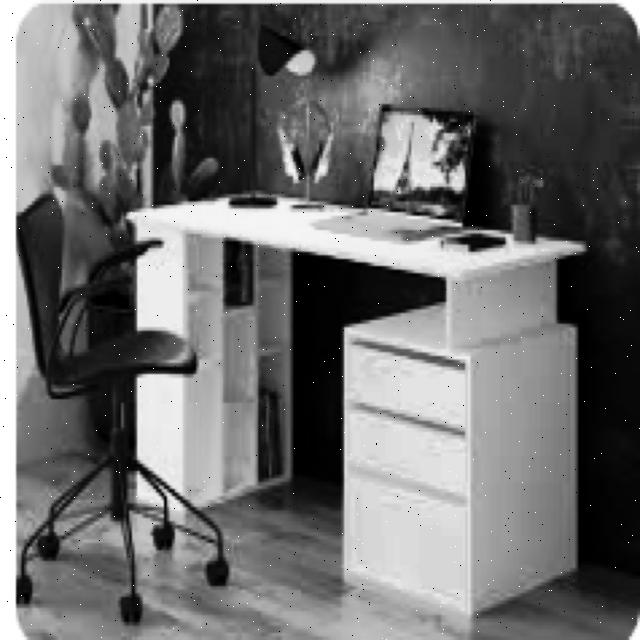book: (19, 191, 231, 622)
table: (126, 187, 589, 615)
